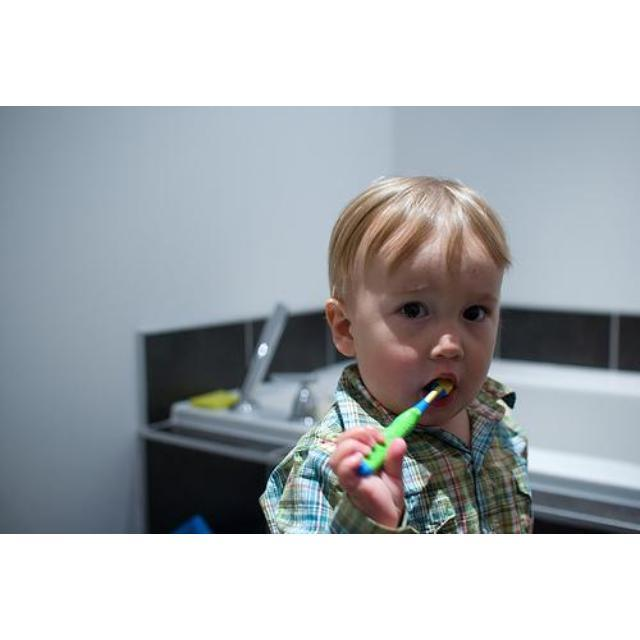toothbrush: (172, 358, 640, 506), (360, 379, 452, 478)
